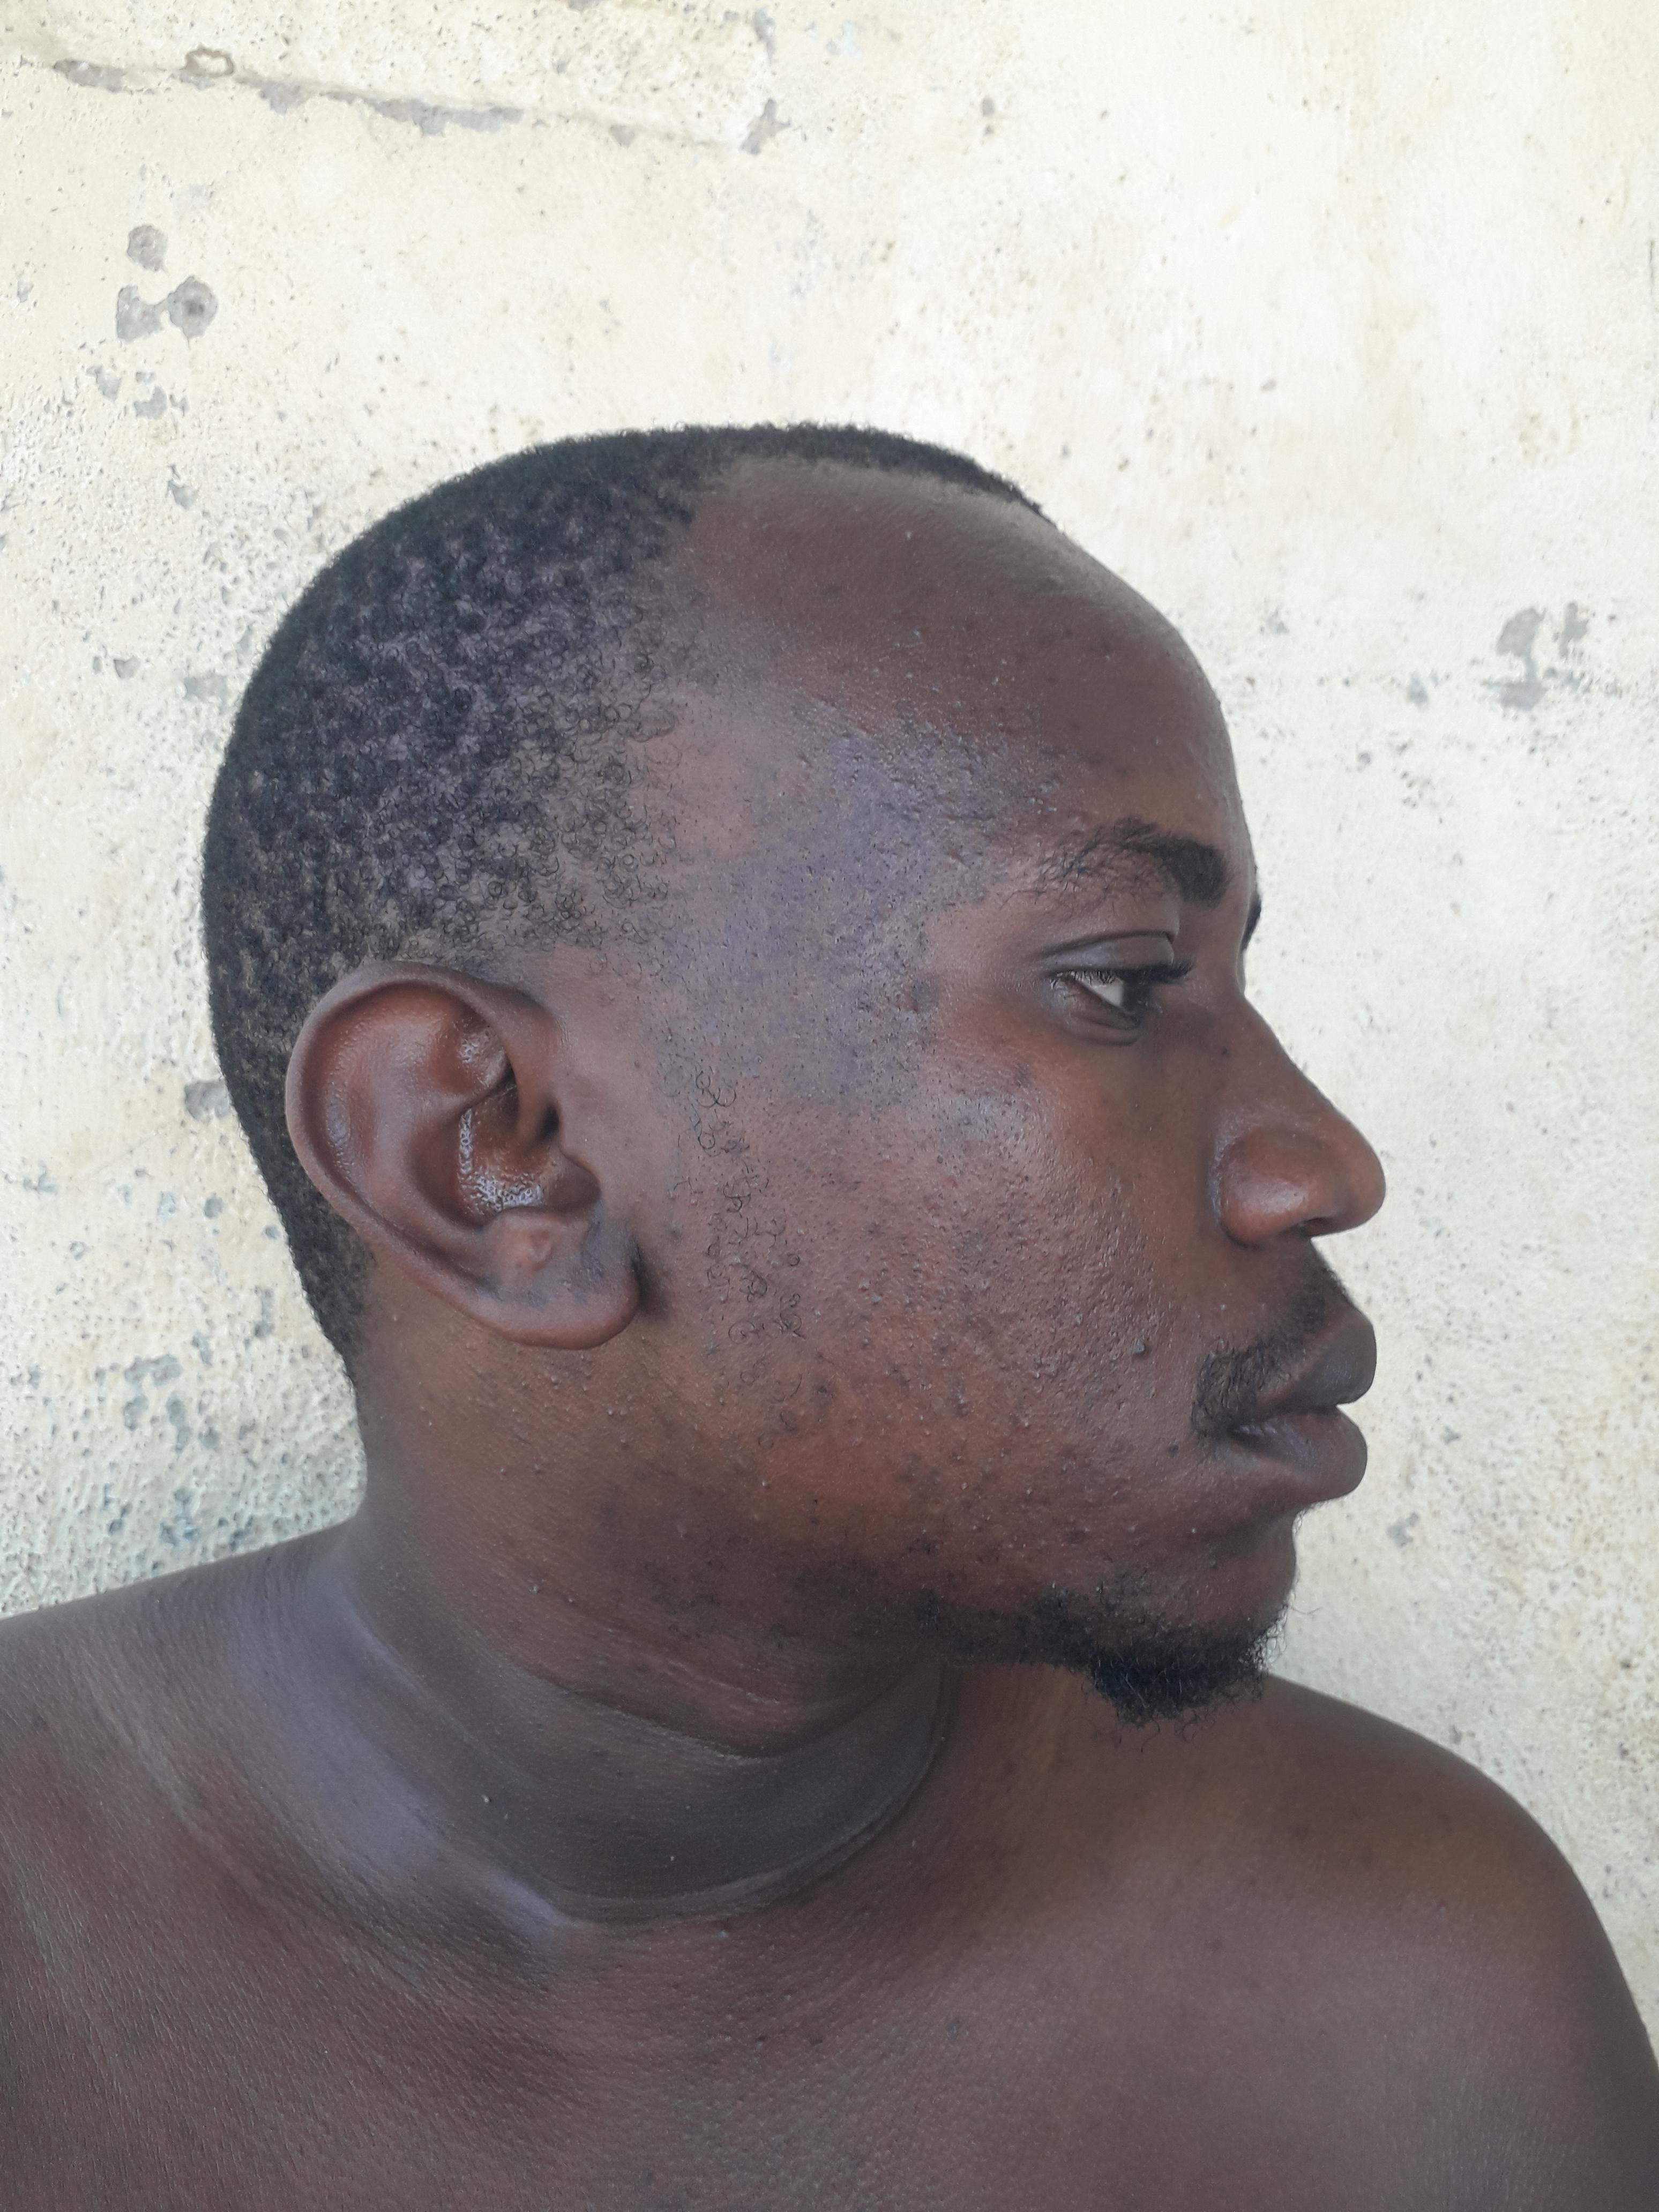Acne: (953, 723, 986, 784), (1070, 744, 1114, 786), (929, 1336, 957, 1371), (988, 1301, 1018, 1332), (861, 1211, 890, 1242), (903, 620, 934, 650), (782, 751, 816, 779), (1061, 806, 1096, 831), (521, 1578, 547, 1608), (1098, 639, 1121, 672), (1063, 1526, 1089, 1554), (892, 1366, 917, 1395), (831, 723, 861, 747), (903, 794, 927, 824), (889, 775, 929, 792), (1126, 1339, 1152, 1366), (1040, 566, 1066, 592), (1044, 1359, 1072, 1383), (1201, 1550, 1223, 1580), (972, 883, 995, 913), (1042, 770, 1066, 796), (939, 1447, 962, 1475), (1016, 1413, 1037, 1442), (992, 655, 1012, 685), (896, 1468, 922, 1491), (525, 1460, 547, 1484), (1068, 1306, 1091, 1329), (416, 1400, 436, 1426), (901, 524, 920, 550), (612, 1428, 634, 1449), (852, 1275, 875, 1296), (605, 1404, 622, 1430), (1115, 1519, 1141, 1536), (634, 1331, 653, 1353), (671, 1214, 687, 1240), (950, 690, 971, 709), (1209, 1299, 1232, 1317), (871, 658, 889, 679), (387, 1310, 403, 1332), (809, 691, 849, 700), (542, 1372, 558, 1392), (978, 1275, 993, 1294), (1256, 1296, 1272, 1312), (903, 667, 920, 681)
Englarged-Pores: (960, 1106, 1164, 1437), (843, 841, 955, 1146), (667, 897, 829, 1073), (896, 1188, 964, 1325)
